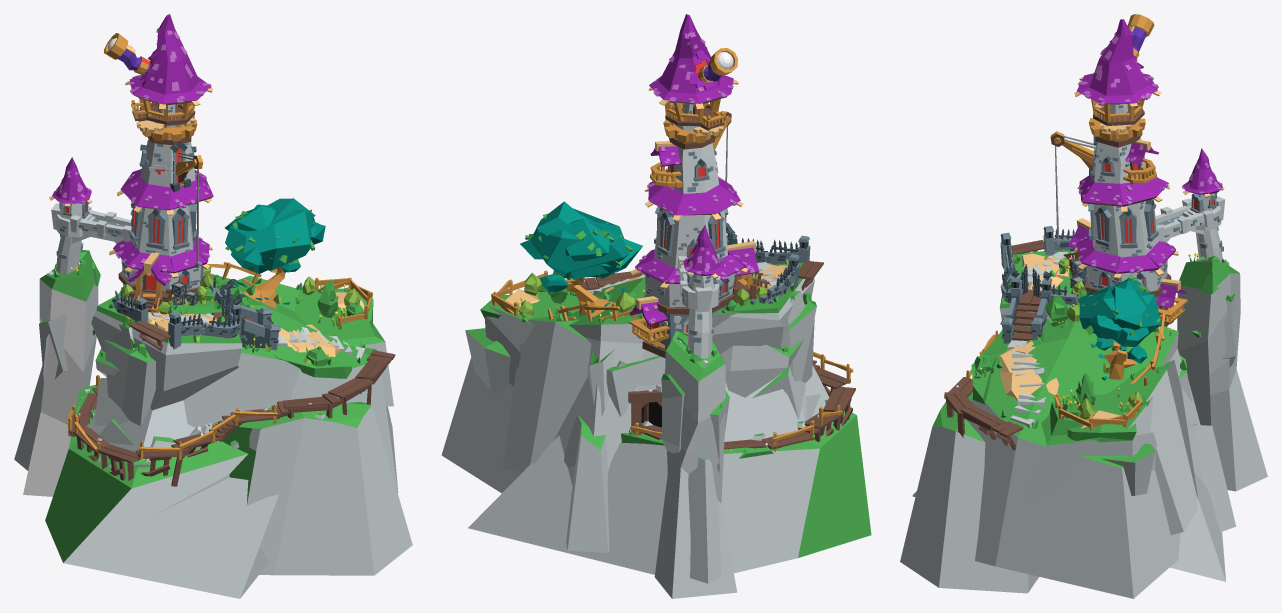
File: tower.fbx
The picture shows the model from 3 angles, left to right: view 1: azimuth 30°, elevation 25°; view 2: azimuth 150°, elevation 25°; view 3: azimuth 270°, elevation 25°; orthographic projection. The views are drawn at different scales.
Visible parts, largest first — view 1: group394203; view 2: group394203; view 3: group394203.
Boxes of the visible parts, box(x1,y1,x2,y2) form: group394203: box(14, 14, 412, 598); group394203: box(441, 14, 871, 598); group394203: box(900, 14, 1267, 598).
Bounding box in the file's own units: 359 × 474 × 312.
